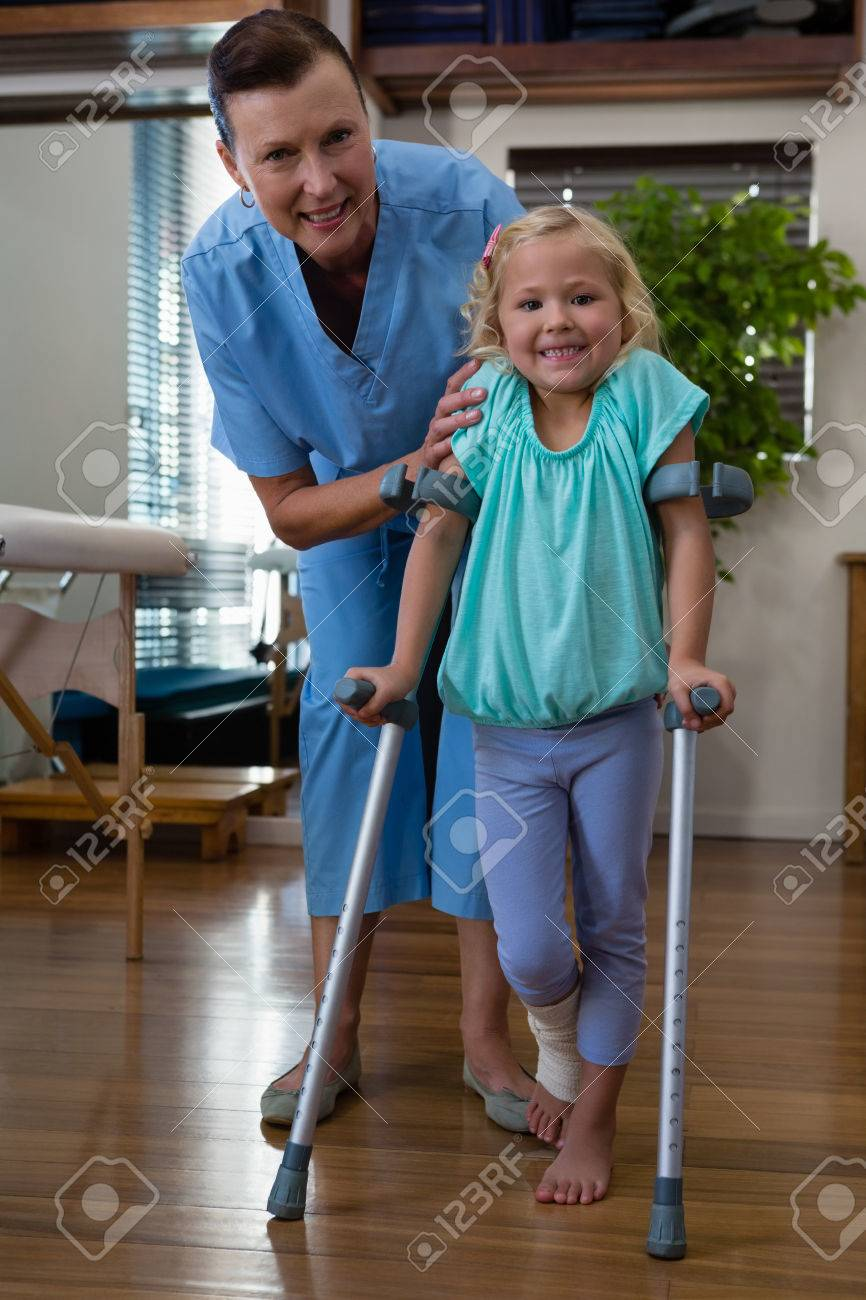crutches: (272, 201, 744, 1255)
